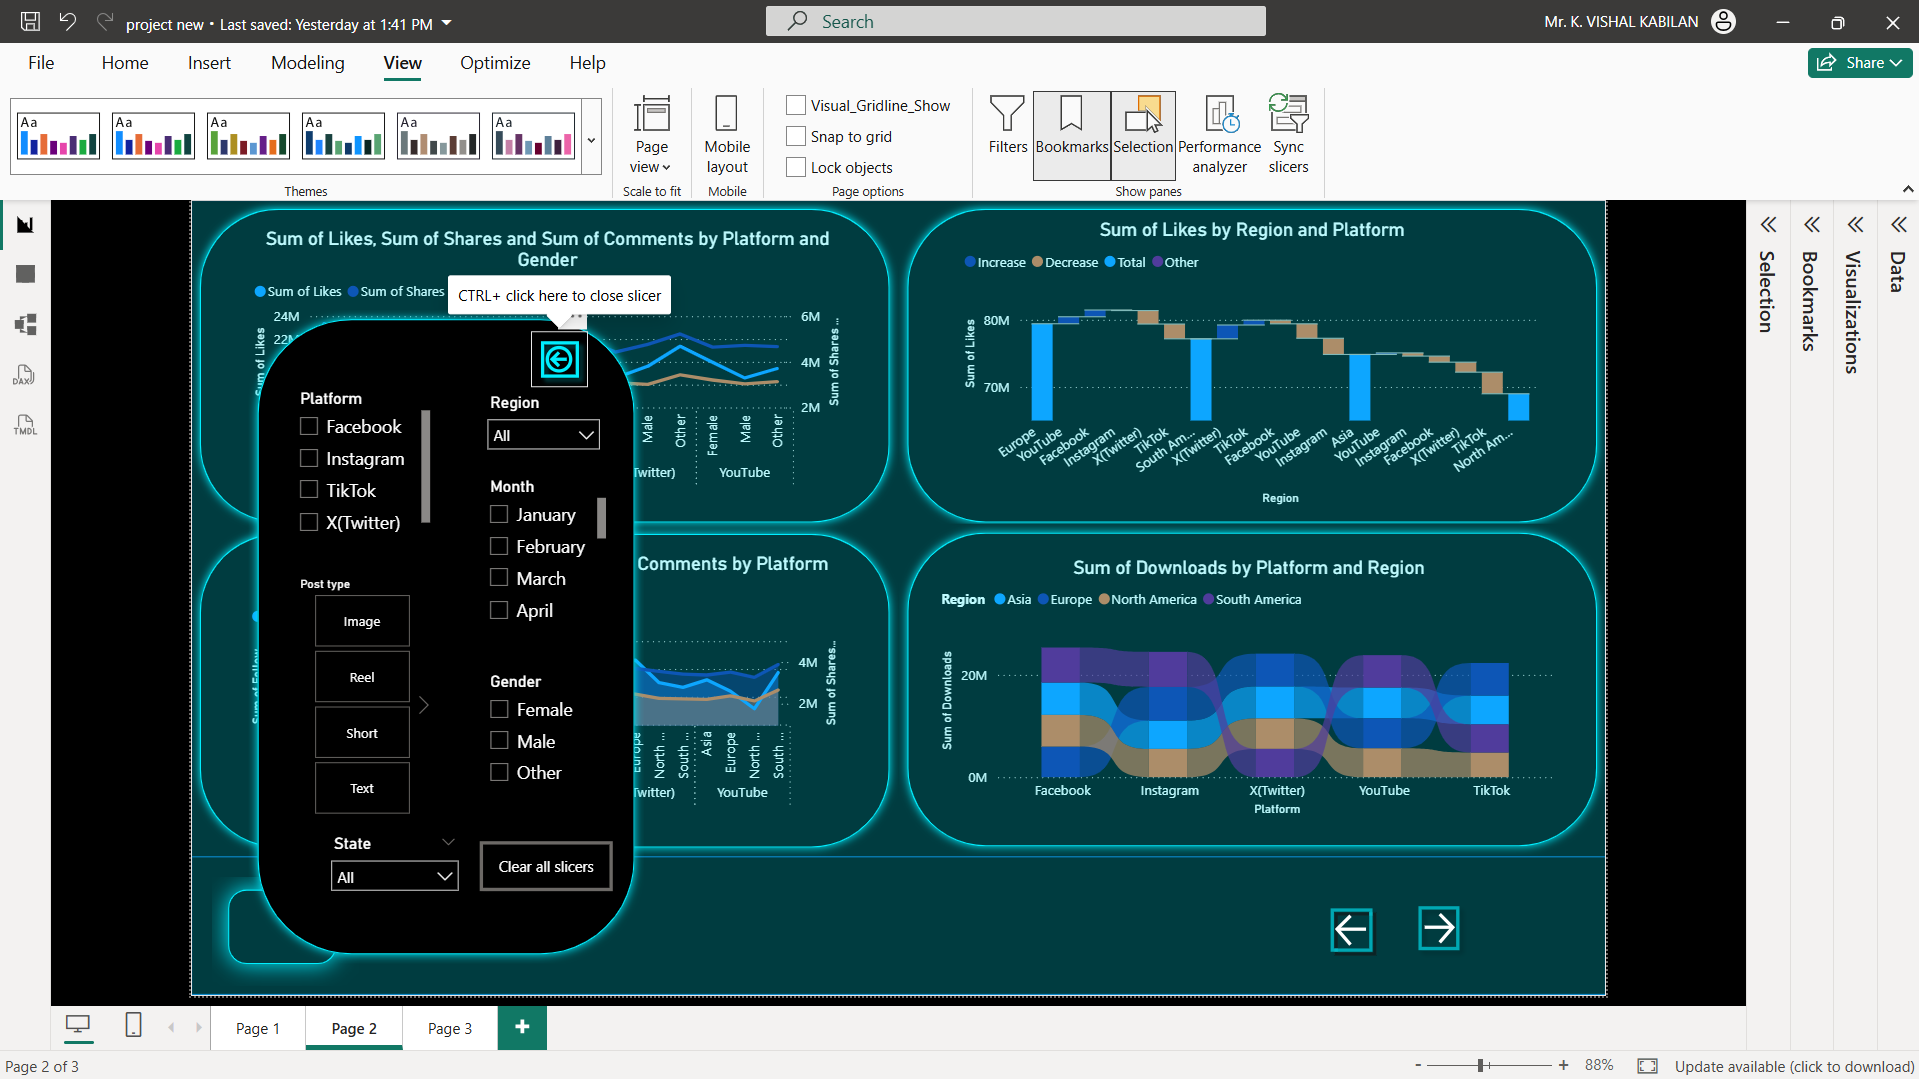

The page's visual inventory and layout, read from the dashboard file:
{"tool":"powerbi","page":{"name":"Page 2","canvas":[1280,720],"ordinal":1},"visuals":[{"type":"group","id":"g1","title":"Group 3","box":[0,0,1280,719.5],"z":0},{"type":"lineChart","fields":{"Category":["SocialMedia_Flat_Joined.Platform","SocialMedia_Flat_Joined.Gender"],"Y":["Sum(SocialMedia_Flat_Joined.Likes)"],"Y2":["Sum(SocialMedia_Flat_Joined.Shares)","Sum(SocialMedia_Flat_Joined.Comments)"]},"box":[51.7,24.3,541,253.8],"z":0,"group":"g2"},{"type":"shape","box":[0,594,1280,125.5],"z":0,"group":"g1"},{"type":"areaChart","fields":{"Category":["SocialMedia_Flat_Joined.Platform","SocialMedia_Flat_Joined.Region"],"Y":["Sum(SocialMedia_Flat_Joined.Followers)"],"Y2":["Sum(SocialMedia_Flat_Joined.Shares)","Sum(SocialMedia_Flat_Joined.Comments)"]},"box":[49.3,318.2,541,249.6],"z":1000,"group":"g2"},{"type":"shape","box":[13.9,603.7,138,107.4],"z":1000,"group":"g1"},{"type":"image","box":[48.8,630.2,69.7,57.2],"z":1000},{"type":"shape","box":[640,0,640,299.8],"z":2000,"group":"g1"},{"type":"group","id":"g2","title":"Group 2","box":[49.3,16.8,1190.3,551],"z":2000},{"type":"waterfallChart","fields":{"Category":["SocialMedia_Flat_Joined.Region"],"Breakdown":["SocialMedia_Flat_Joined.Platform"],"Y":["Sum(SocialMedia_Flat_Joined.Likes)"]},"box":[693.5,16.8,531.2,263.5],"z":2000,"group":"g2"},{"type":"shape","box":[0,0,640,299.8],"z":3000,"group":"g1"},{"type":"ribbonChart","fields":{"Category":["SocialMedia_Flat_Joined.Platform"],"Y":["Sum(SocialMedia_Flat_Joined.Downloads)"],"Series":["SocialMedia_Flat_Joined.Region"]},"box":[673.5,322.4,566.1,239.8],"z":3000,"group":"g2"},{"type":"shape","box":[0,294.2,640,299.8],"z":4000,"group":"g1"},{"type":"cardVisual","fields":{"Data":["Sum(SocialMedia_Flat_Joined.Likes)","Sum(SocialMedia_Flat_Joined.Comments)","Sum(SocialMedia_Flat_Joined.Shares)"]},"box":[169.3,593.8,820.8,126.3],"z":4000},{"type":"shape","box":[640,292.8,640,299.8],"z":5000,"group":"g1"},{"type":"actionButton","box":[1010.2,620.7,77.9,79.3],"z":5000},{"type":"actionButton","box":[1101.6,630.1,55.1,57.8],"z":6000}]}

Visuals, with their boxes on the page's 1280x720 design canvas (x1, y1, x2, y2). These are canvas units, not pixel positions in the 1919x1079 screenshot, which may show the page scaled, cropped or inside an application window:
"Group 3" group: <box>0,0,1280,720</box>
lineChart - SocialMedia_Flat_Joined.Platform x SocialMedia_Flat_Joined.Gender: <box>52,24,593,278</box>
shape: <box>0,594,1280,720</box>
areaChart - SocialMedia_Flat_Joined.Platform x SocialMedia_Flat_Joined.Region: <box>49,318,590,568</box>
shape: <box>14,604,152,711</box>
image: <box>49,630,118,687</box>
shape: <box>640,0,1280,300</box>
"Group 2" group: <box>49,17,1240,568</box>
waterfallChart - SocialMedia_Flat_Joined.Region x SocialMedia_Flat_Joined.Platform: <box>694,17,1225,280</box>
shape: <box>0,0,640,300</box>
ribbonChart - SocialMedia_Flat_Joined.Platform x Sum(SocialMedia_Flat_Joined.Downloads): <box>674,322,1240,562</box>
shape: <box>0,294,640,594</box>
cardVisual - Sum(SocialMedia_Flat_Joined.Likes) x Sum(SocialMedia_Flat_Joined.Comments): <box>169,594,990,720</box>
shape: <box>640,293,1280,593</box>
actionButton: <box>1010,621,1088,700</box>
actionButton: <box>1102,630,1157,688</box>
